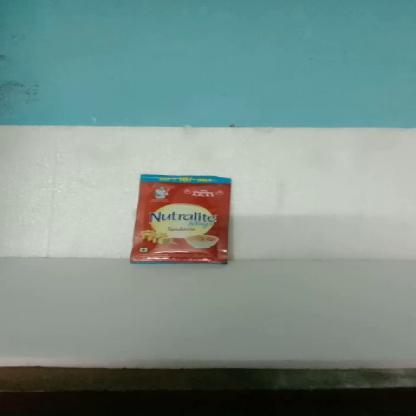Nutralite TANDOORI MAYO 30g: (135, 175, 230, 262)
